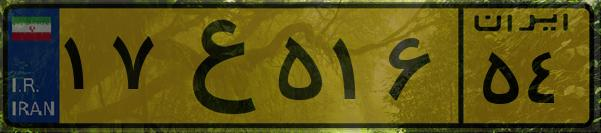1: (330, 28, 385, 110), (57, 26, 110, 100)
4: (525, 38, 570, 115)
5: (270, 28, 330, 110), (475, 38, 525, 113)
6: (385, 28, 445, 110)
7: (110, 28, 158, 98)
ع: (158, 12, 270, 120)
